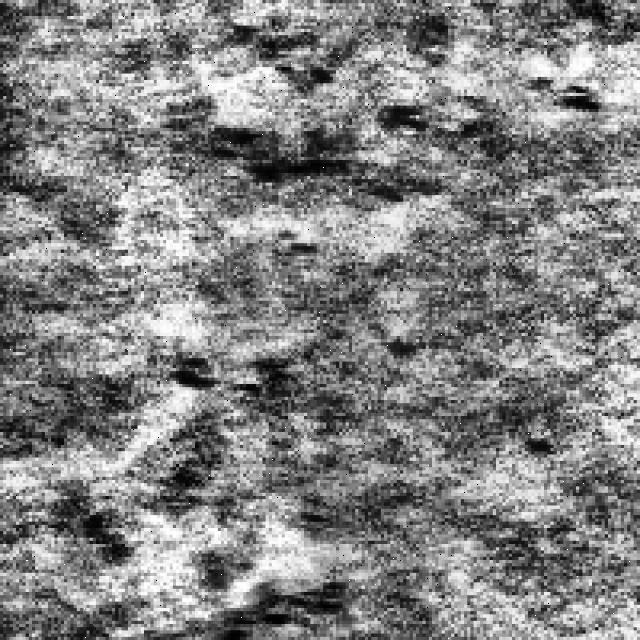Crazing: (140, 339, 340, 637), (208, 41, 582, 192)
